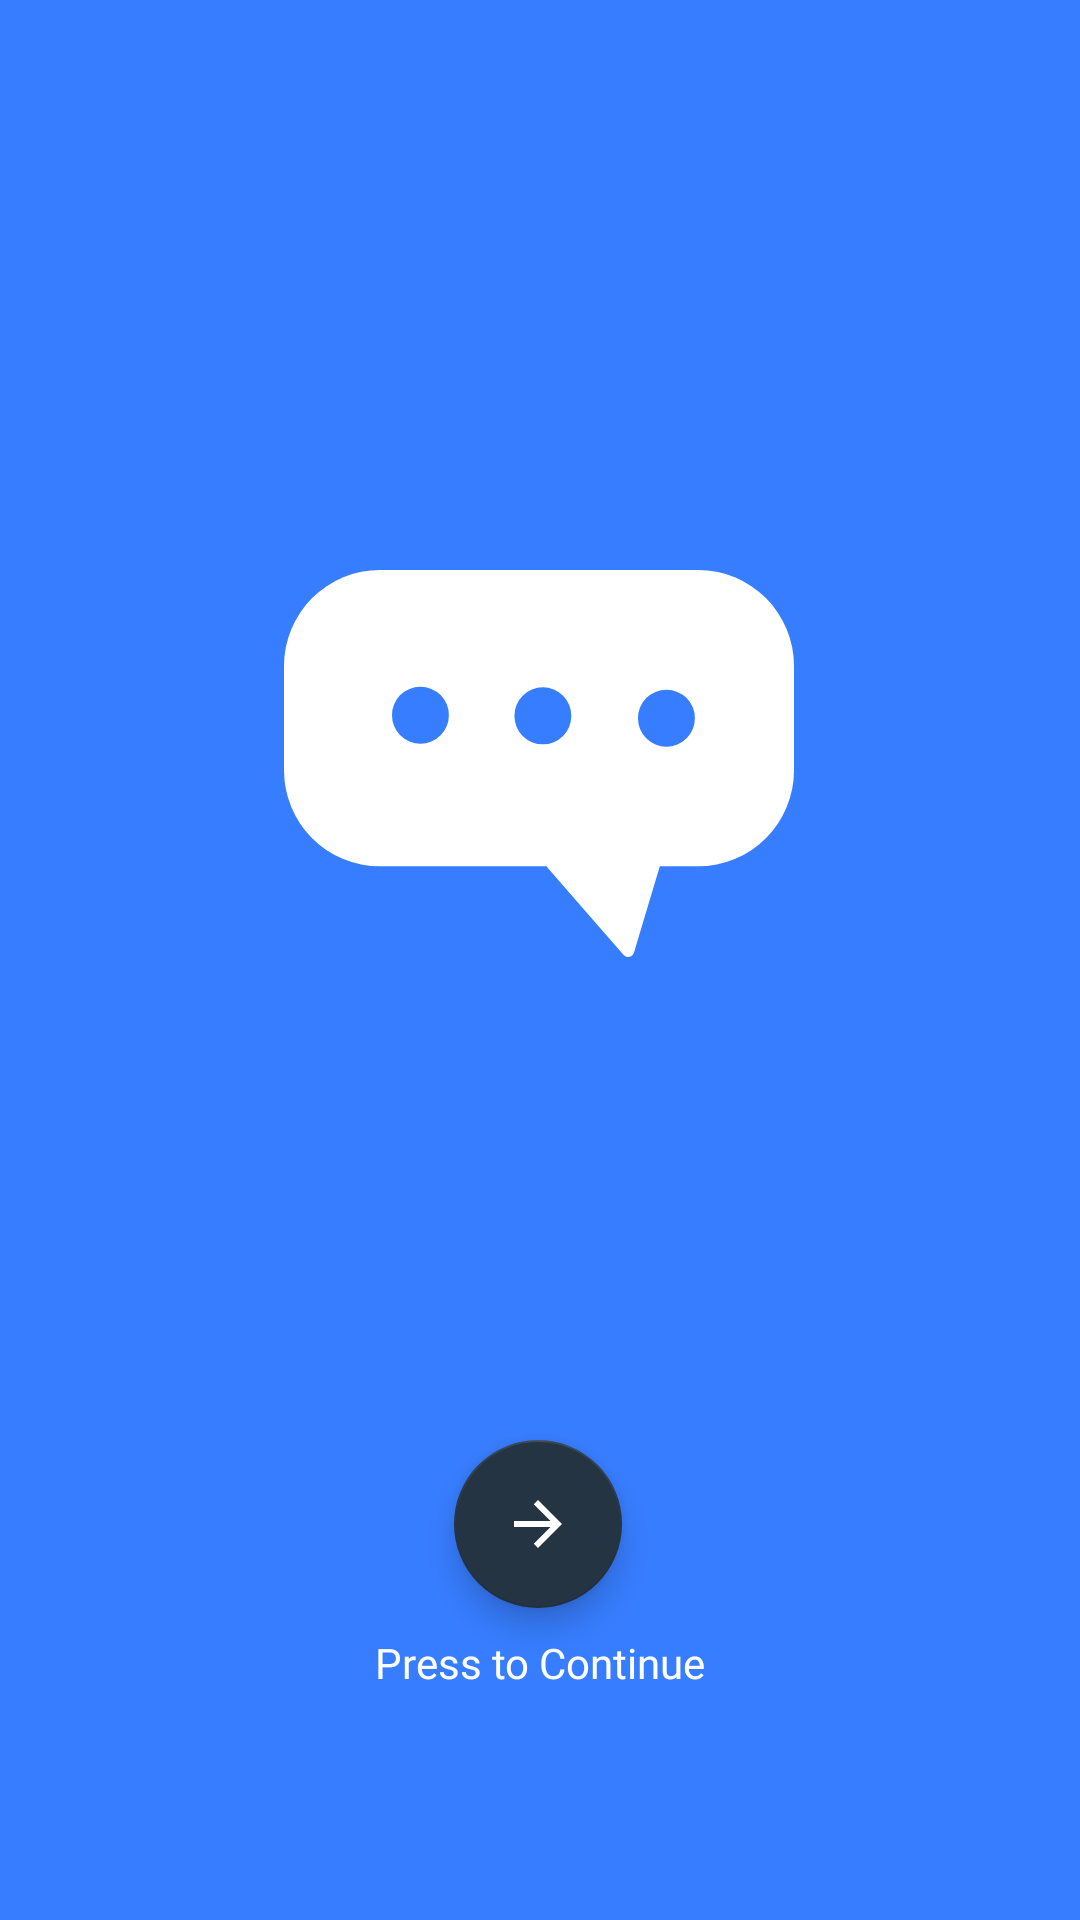

Where icons sit on this 1080w x 1920h app screen, as box=[x1, y1, x2, y2]:
Go to Sign Up Page: box=[454, 1440, 622, 1608]
